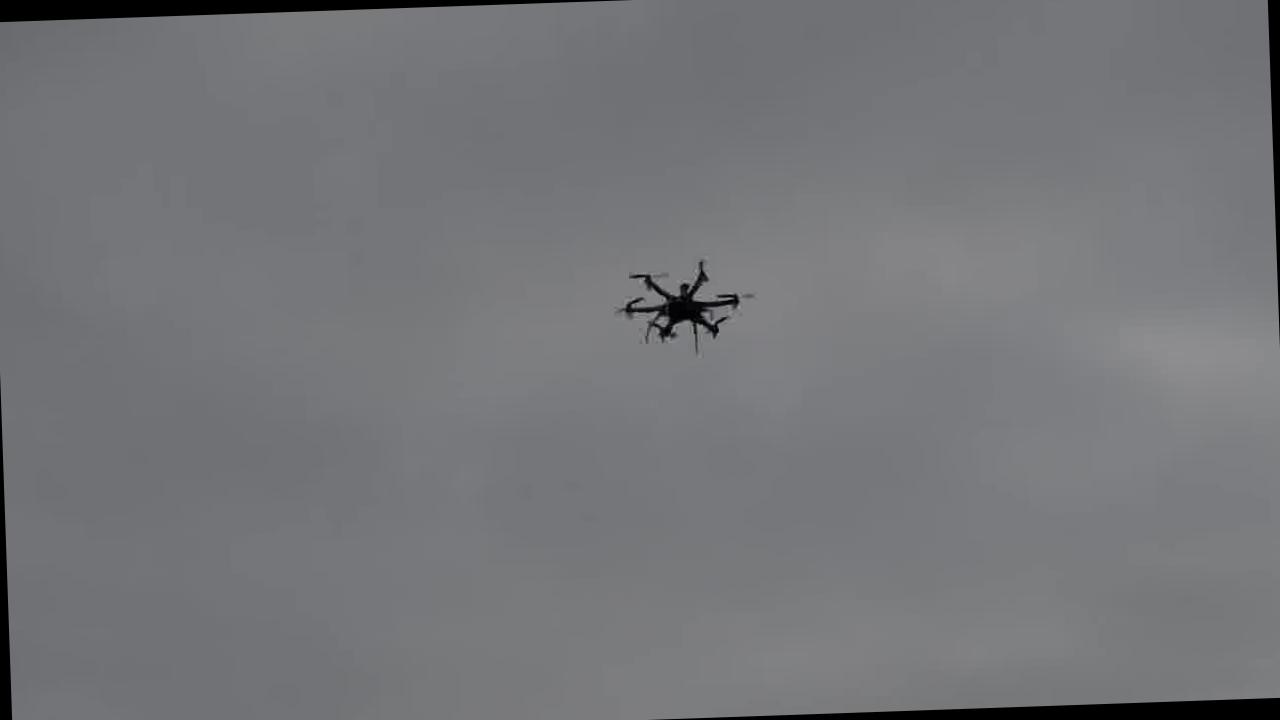drone: (618, 252, 748, 358)
